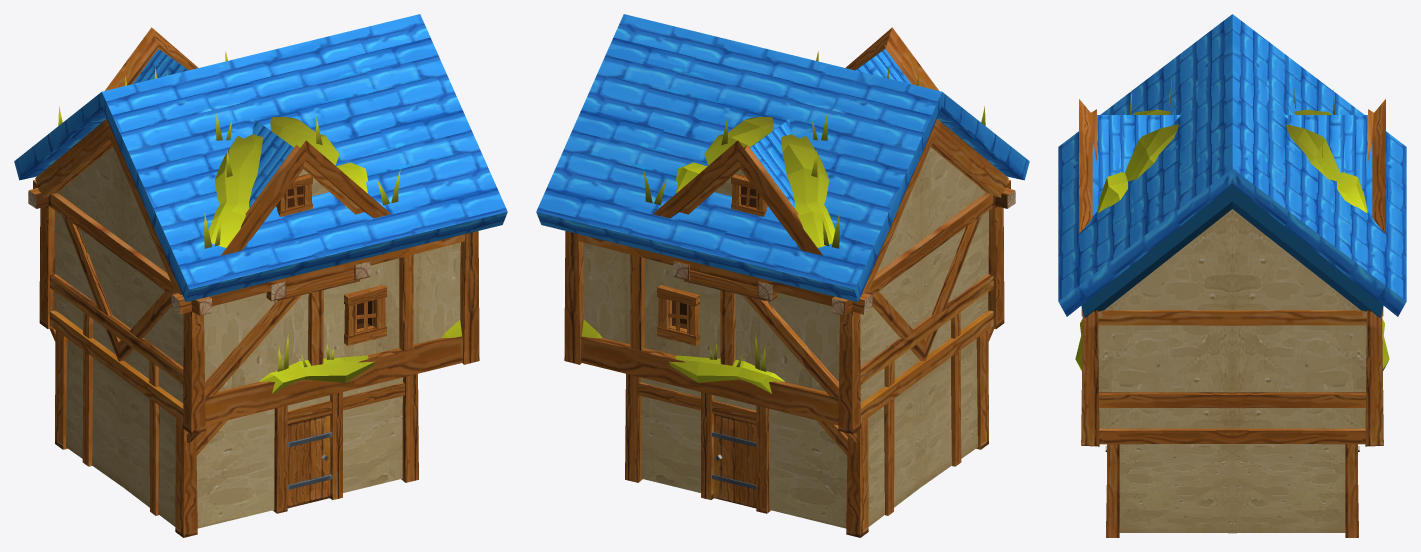
Rendered from hut_03.fbx.
3 renders of one model, left to right at view 1: azimuth 30°, elevation 25°; view 2: azimuth 150°, elevation 25°; view 3: azimuth 270°, elevation 25°, orthographic.
Parts seen in each view (by area): view 1: hut_03, hutbulks_03, grass.03, door_03; view 2: hut_03, hutbulks_03, grass.03, door_03.001; view 3: hut_03, hutbulks_03, grass.03.
Boxes of the visible parts, x1,y1,x2,y2 form: hut_03: [14, 14, 507, 528]; hutbulks_03: [28, 45, 479, 537]; grass.03: [58, 51, 462, 393]; door_03: [287, 413, 332, 508]; hut_03: [536, 14, 1029, 528]; hutbulks_03: [564, 45, 1015, 537]; grass.03: [581, 51, 985, 393]; door_03.001: [712, 413, 756, 508]; hut_03: [1058, 14, 1406, 533]; hutbulks_03: [1081, 109, 1383, 537]; grass.03: [1075, 79, 1389, 370].
Size of the model in its own units: 358 by 434 by 341.
